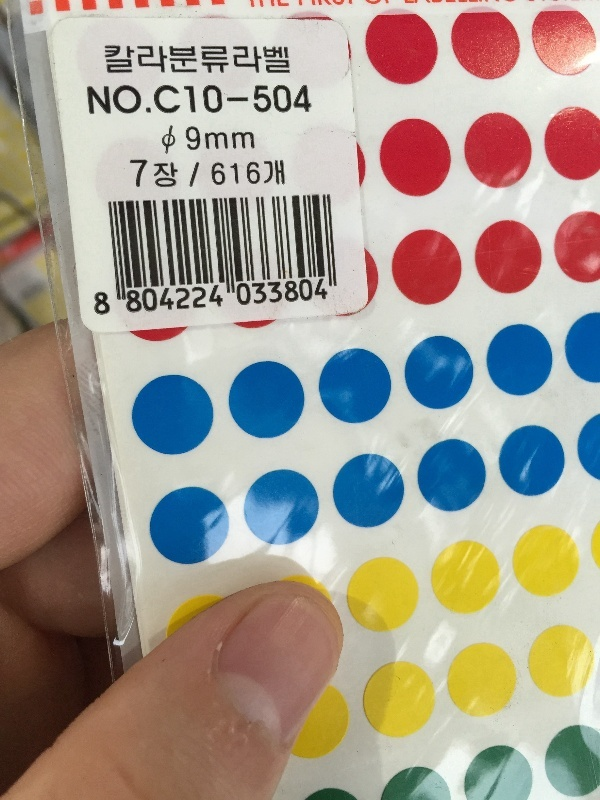text: (97, 277, 112, 317), (113, 277, 128, 317), (129, 277, 144, 317), (145, 277, 160, 317), (161, 277, 176, 317), (177, 277, 192, 317), (193, 277, 208, 317), (209, 277, 224, 317), (225, 277, 240, 317), (241, 277, 256, 317), (257, 277, 272, 317), (273, 277, 288, 317), (289, 277, 304, 317), (305, 277, 320, 317), (97, 81, 112, 118), (113, 81, 128, 118), (129, 81, 144, 118), (145, 81, 160, 118), (161, 81, 176, 118), (177, 81, 192, 118), (193, 81, 208, 118), (209, 81, 224, 118), (225, 81, 240, 118), (241, 81, 256, 118), (257, 81, 272, 118), (273, 81, 288, 118), (289, 81, 304, 118), (129, 156, 144, 191), (145, 156, 160, 191), (161, 156, 176, 191), (177, 156, 192, 191), (193, 156, 208, 191), (209, 156, 224, 191), (225, 156, 240, 191), (241, 156, 256, 191), (257, 156, 272, 191), (241, 125, 257, 157), (113, 43, 128, 77), (129, 43, 144, 77), (145, 43, 160, 77), (161, 43, 176, 77), (177, 43, 192, 77), (193, 43, 208, 77), (209, 43, 224, 77), (225, 43, 240, 77), (241, 43, 256, 77), (257, 43, 272, 77), (273, 43, 288, 77), (177, 125, 192, 157), (193, 125, 208, 157), (209, 125, 224, 157), (225, 125, 240, 157), (273, 156, 286, 191), (162, 125, 176, 157), (86, 81, 96, 118), (305, 81, 315, 118), (321, 277, 330, 317), (104, 43, 112, 77), (289, 43, 292, 77), (94, 277, 96, 317)
